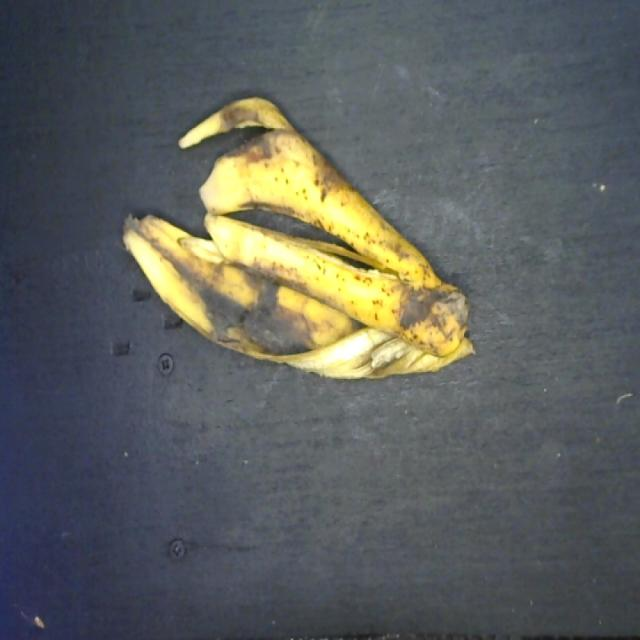biodegradable: (121, 86, 482, 392)
